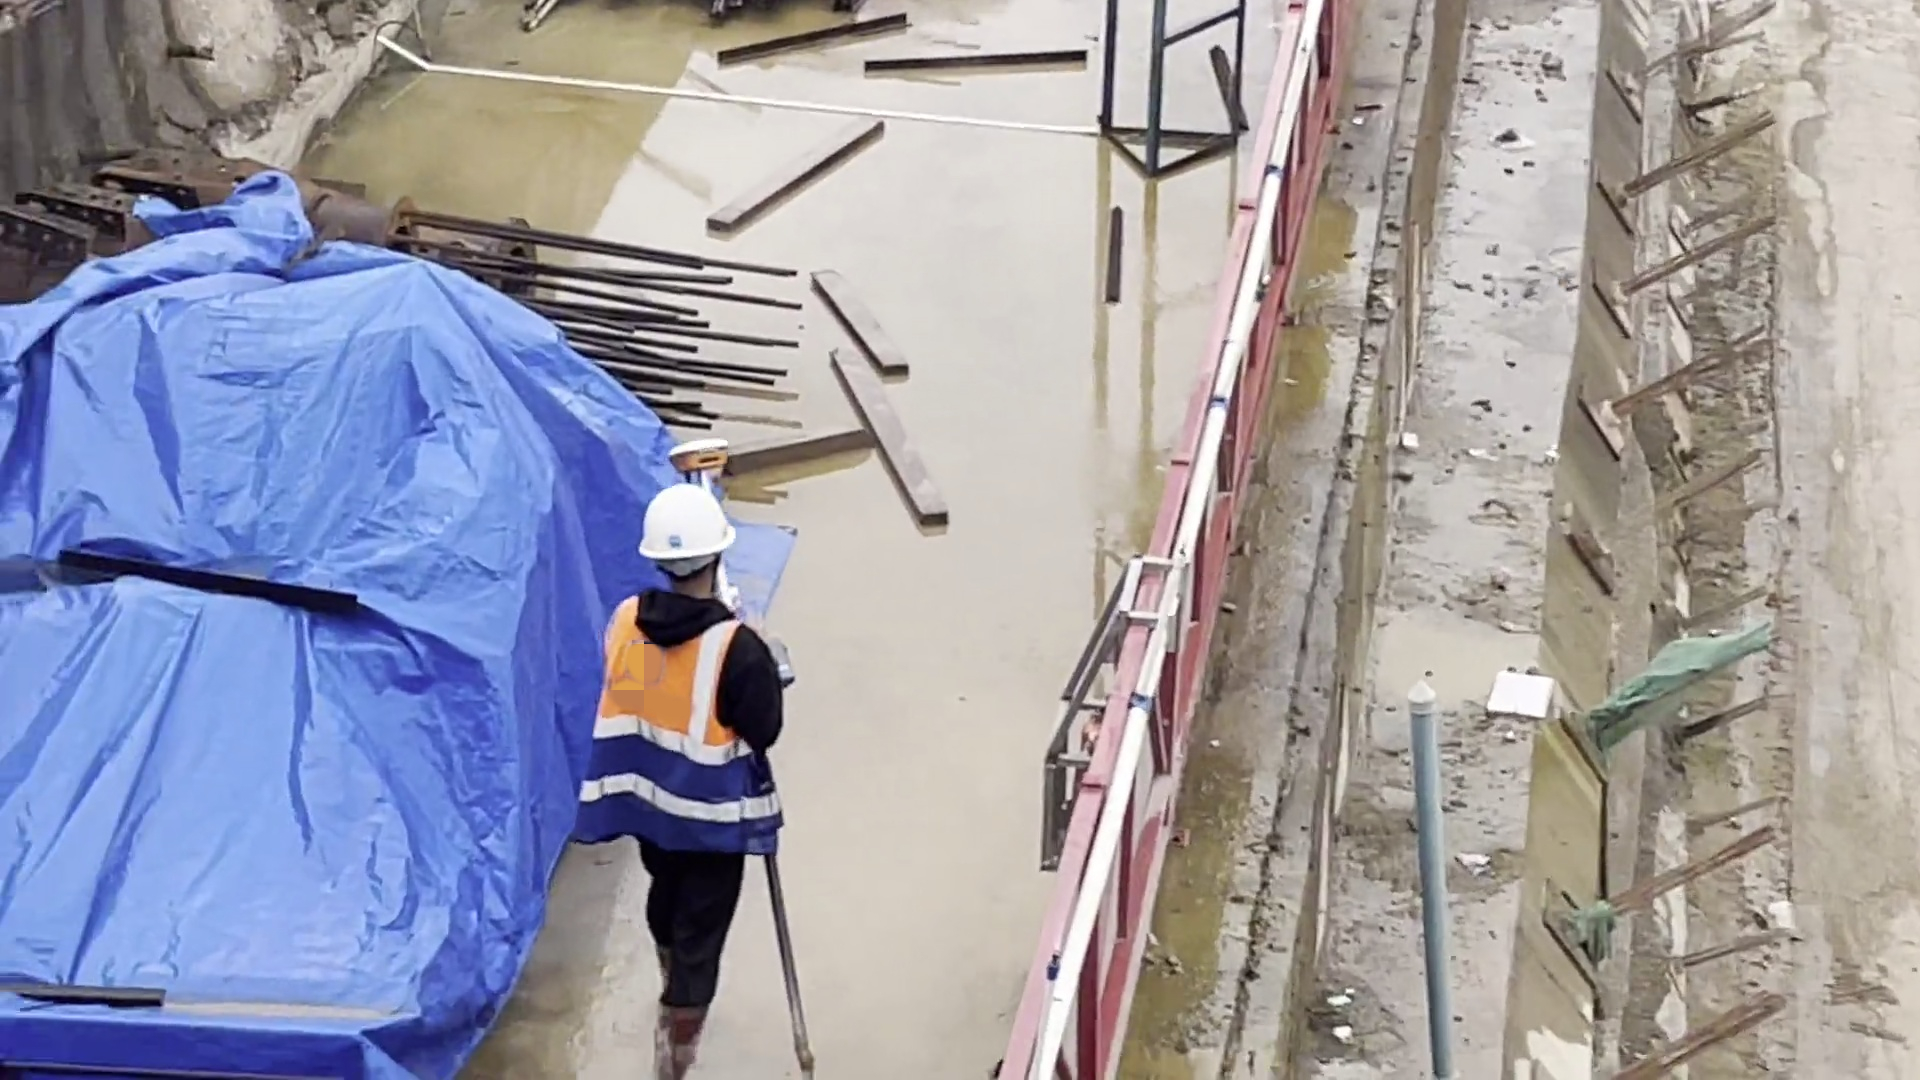fence: (1230, 1, 1346, 485), (1157, 291, 1269, 764), (1057, 578, 1181, 973), (961, 900, 1127, 1080)
helmet: (636, 473, 748, 568)
person: (565, 469, 869, 1080)
vest: (572, 578, 790, 866)
